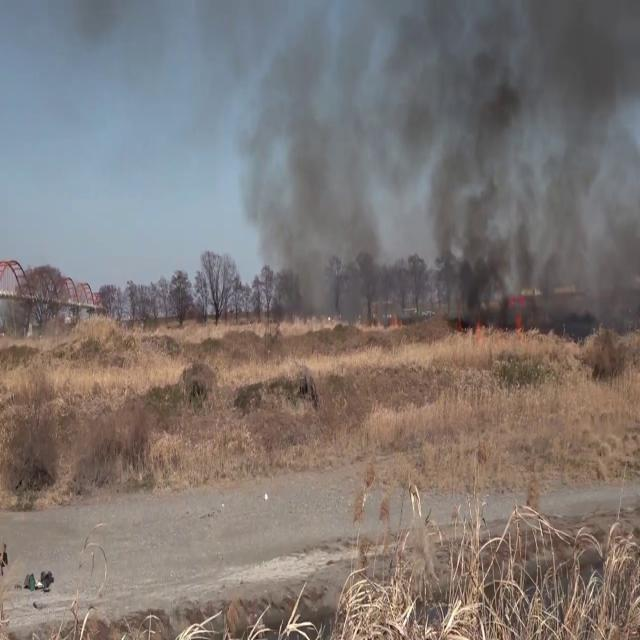Smoke: (401, 0, 640, 323), (232, 3, 409, 322)
